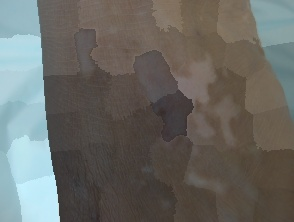vitiligo: (72, 0, 264, 222)
